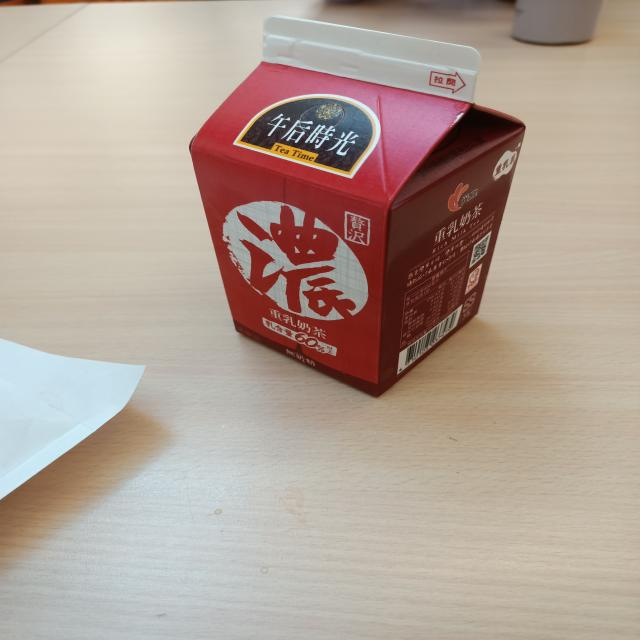Known_MilkTea: (173, 10, 535, 402)
